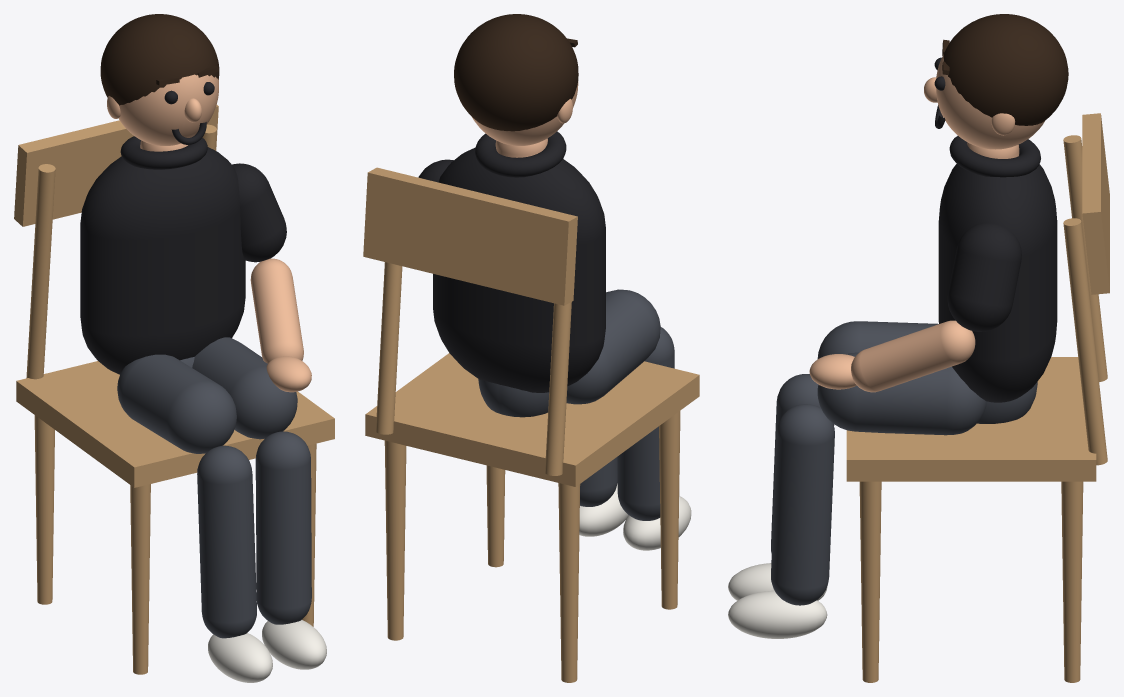
The model's file is persona-sentada.glb.
The picture shows the model from 3 angles, left to right: view 1: azimuth 30°, elevation 25°; view 2: azimuth 150°, elevation 25°; view 3: azimuth 270°, elevation 25°; orthographic projection. The views are drawn at different scales.
Visible parts, largest first — view 1: torso, asiento, gemelo_d, gemelo_i, muslo_i, pelo, respaldo, muslo_d, cabeza, antebrazo_d, montante_i, manga_d (+7 smaller); view 2: torso, asiento, respaldo, pelo, muslo_i, gemelo_i, pata_ti, pata_td, pata_di, montante_i, montante_d, cuello_polo (+7 smaller); view 3: torso, asiento, gemelo_d, pelo, muslo_d, manga_d, antebrazo_d, montante_d, respaldo, pata_dd, pata_td, zapatilla_d (+8 smaller).
Boxes of the visible parts, left/top/right/bottom form: torso: left=80, top=147, right=245, bottom=374; asiento: left=16, top=361, right=334, bottom=487; gemelo_d: left=255, top=431, right=311, bottom=624; gemelo_i: left=197, top=445, right=256, bottom=638; muslo_i: left=117, top=354, right=236, bottom=453; pelo: left=100, top=14, right=219, bottom=105; respaldo: left=14, top=104, right=218, bottom=226; muslo_d: left=192, top=337, right=297, bottom=439; cabeza: left=118, top=74, right=218, bottom=145; antebrazo_d: left=250, top=258, right=303, bottom=363; montante_i: left=26, top=164, right=55, bottom=379; manga_d: left=232, top=163, right=286, bottom=262; torso: left=433, top=147, right=605, bottom=392; asiento: left=365, top=353, right=699, bottom=486; respaldo: left=363, top=167, right=577, bottom=305; pelo: left=454, top=14, right=578, bottom=131; muslo_i: left=566, top=289, right=660, bottom=404; gemelo_i: left=617, top=327, right=674, bottom=520; pata_ti: left=558, top=483, right=580, bottom=682; pata_td: left=384, top=440, right=406, bottom=640; pata_di: left=659, top=411, right=680, bottom=609; montante_i: left=545, top=302, right=571, bottom=475; montante_d: left=376, top=262, right=402, bottom=434; cuello_polo: left=475, top=131, right=566, bottom=177; torso: left=938, top=154, right=1057, bottom=402; asiento: left=846, top=357, right=1096, bottom=481; gemelo_d: left=771, top=404, right=834, bottom=605; pelo: left=943, top=14, right=1068, bottom=125; muslo_d: left=817, top=352, right=986, bottom=435; manga_d: left=947, top=223, right=1021, bottom=331; antebrazo_d: left=851, top=320, right=975, bottom=392; montante_d: left=1063, top=218, right=1107, bottom=465; respaldo: left=1082, top=113, right=1109, bottom=294; pata_dd: left=859, top=481, right=881, bottom=682; pata_td: left=1061, top=481, right=1083, bottom=682; zapatilla_d: left=728, top=590, right=827, bottom=638.
Size of the model in its own units: 0.4854 by 1.28 by 0.7195.
